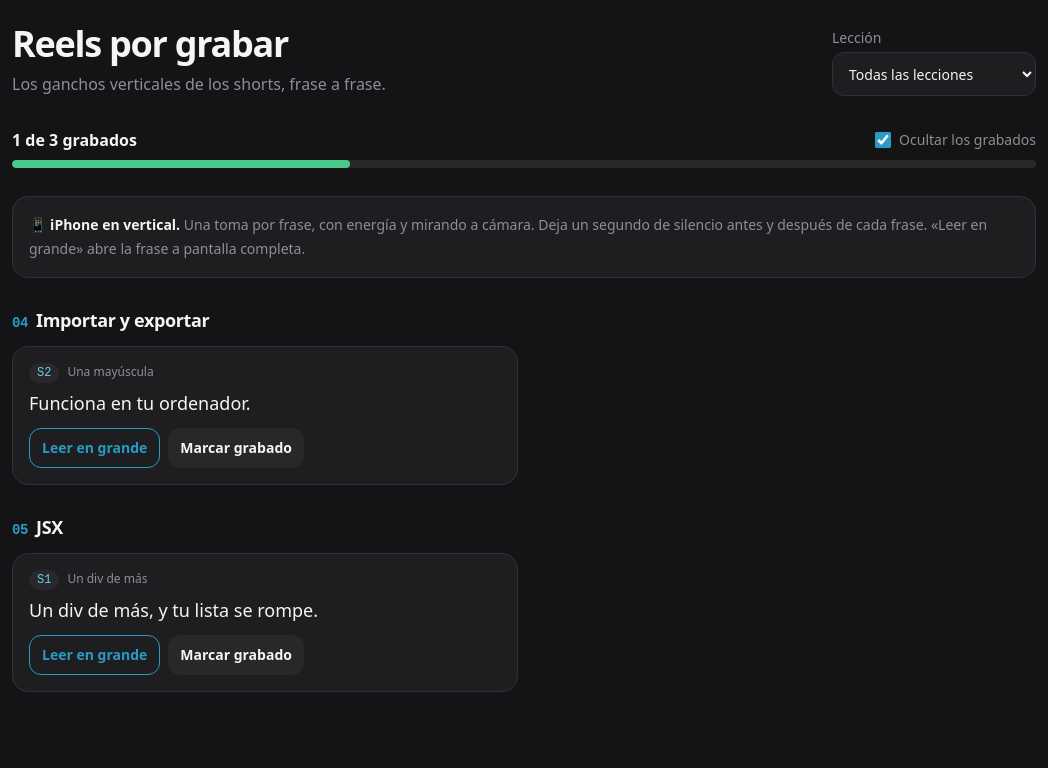
teleprompter de reels › lista todas las lecciones ocultando lo grabado, con el progreso
The image size is (1048, 768).
Expected: the text "1 de 3 grabados" is shown, [12,128,137,152]
Expected: the list item with aria-label "S2 · Una mayúscula" is shown, [12,346,518,485]
Step 1. Click the checkbox labelled "Ocultar los grabados" → (883, 140), box [875,132,891,148]
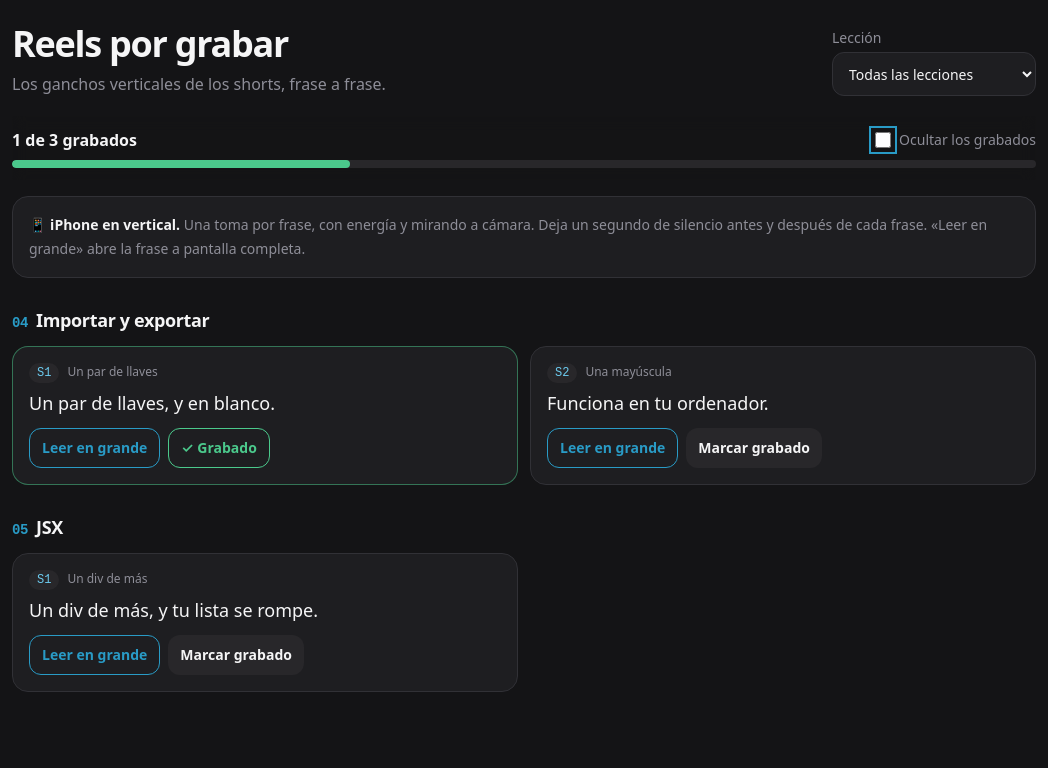
Expected: the list item with aria-label "S1 · Un par de llaves" is shown, [12,346,518,485]
